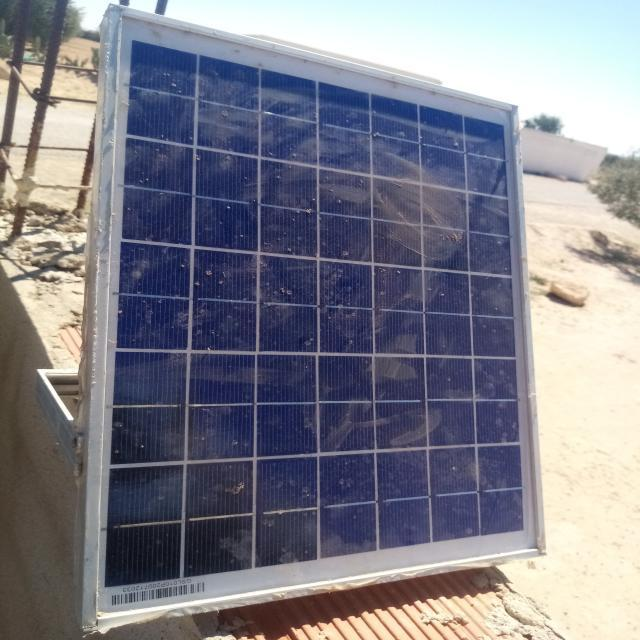faulty: (92, 9, 539, 622)
